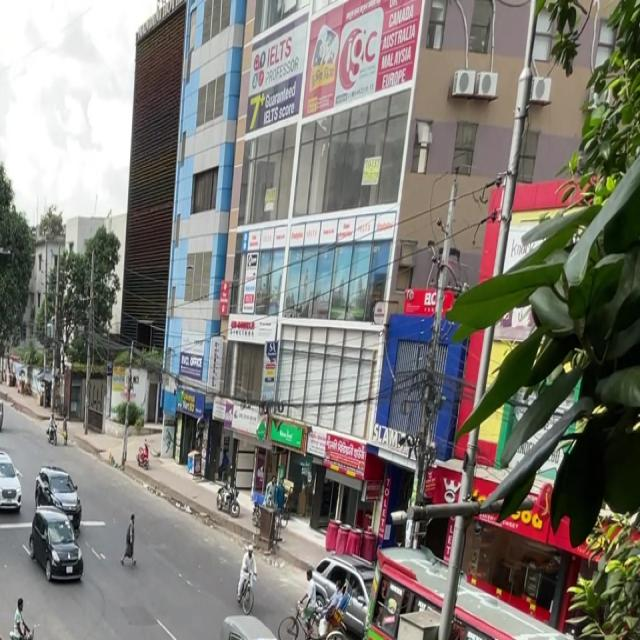bicycle: (233, 572, 260, 616)
car: (25, 502, 88, 587), (31, 458, 85, 530), (0, 447, 25, 517)
rickshaw: (206, 607, 292, 640), (0, 404, 6, 448)
